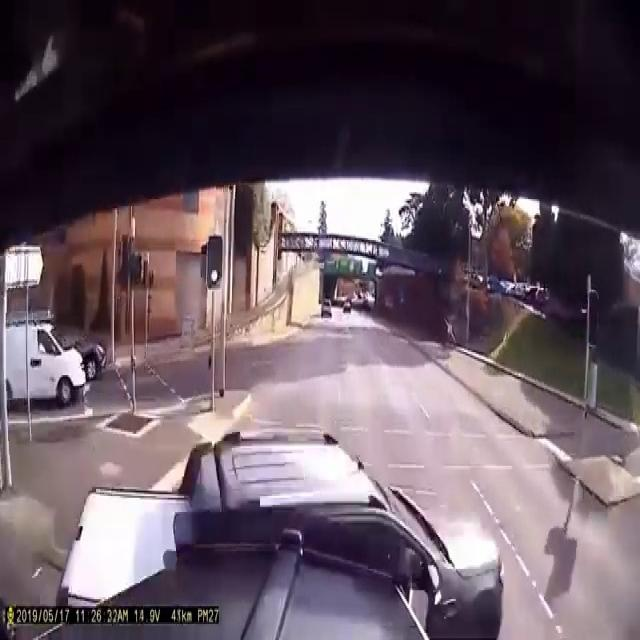moderate: (30, 423, 508, 640)
